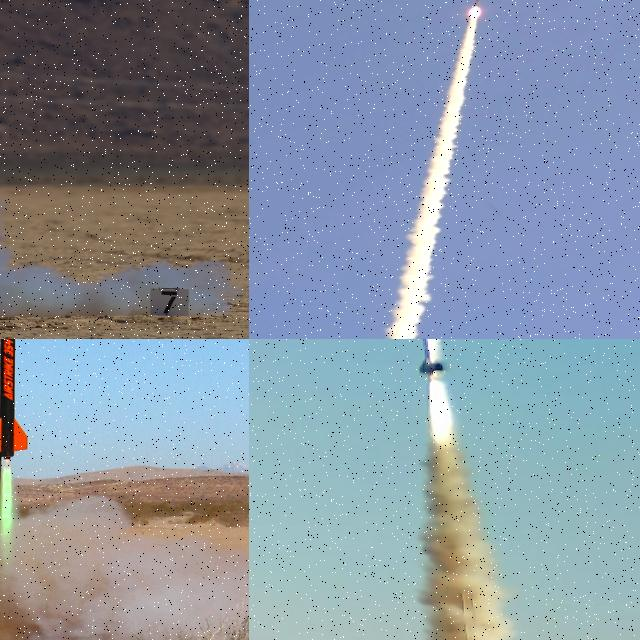Rocket: (0, 339, 30, 459), (414, 339, 442, 373), (474, 0, 480, 6)
